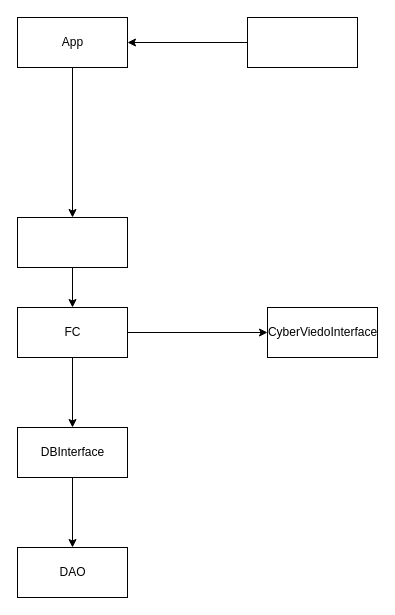
This 395x615 diagram has some shape labels left out. Here are the shapes that lost their labels. From the top down, the centre of each, then its label:
At (x=302, y=42): "IHM (vue)".
At (x=72, y=242): "FCInterface".
